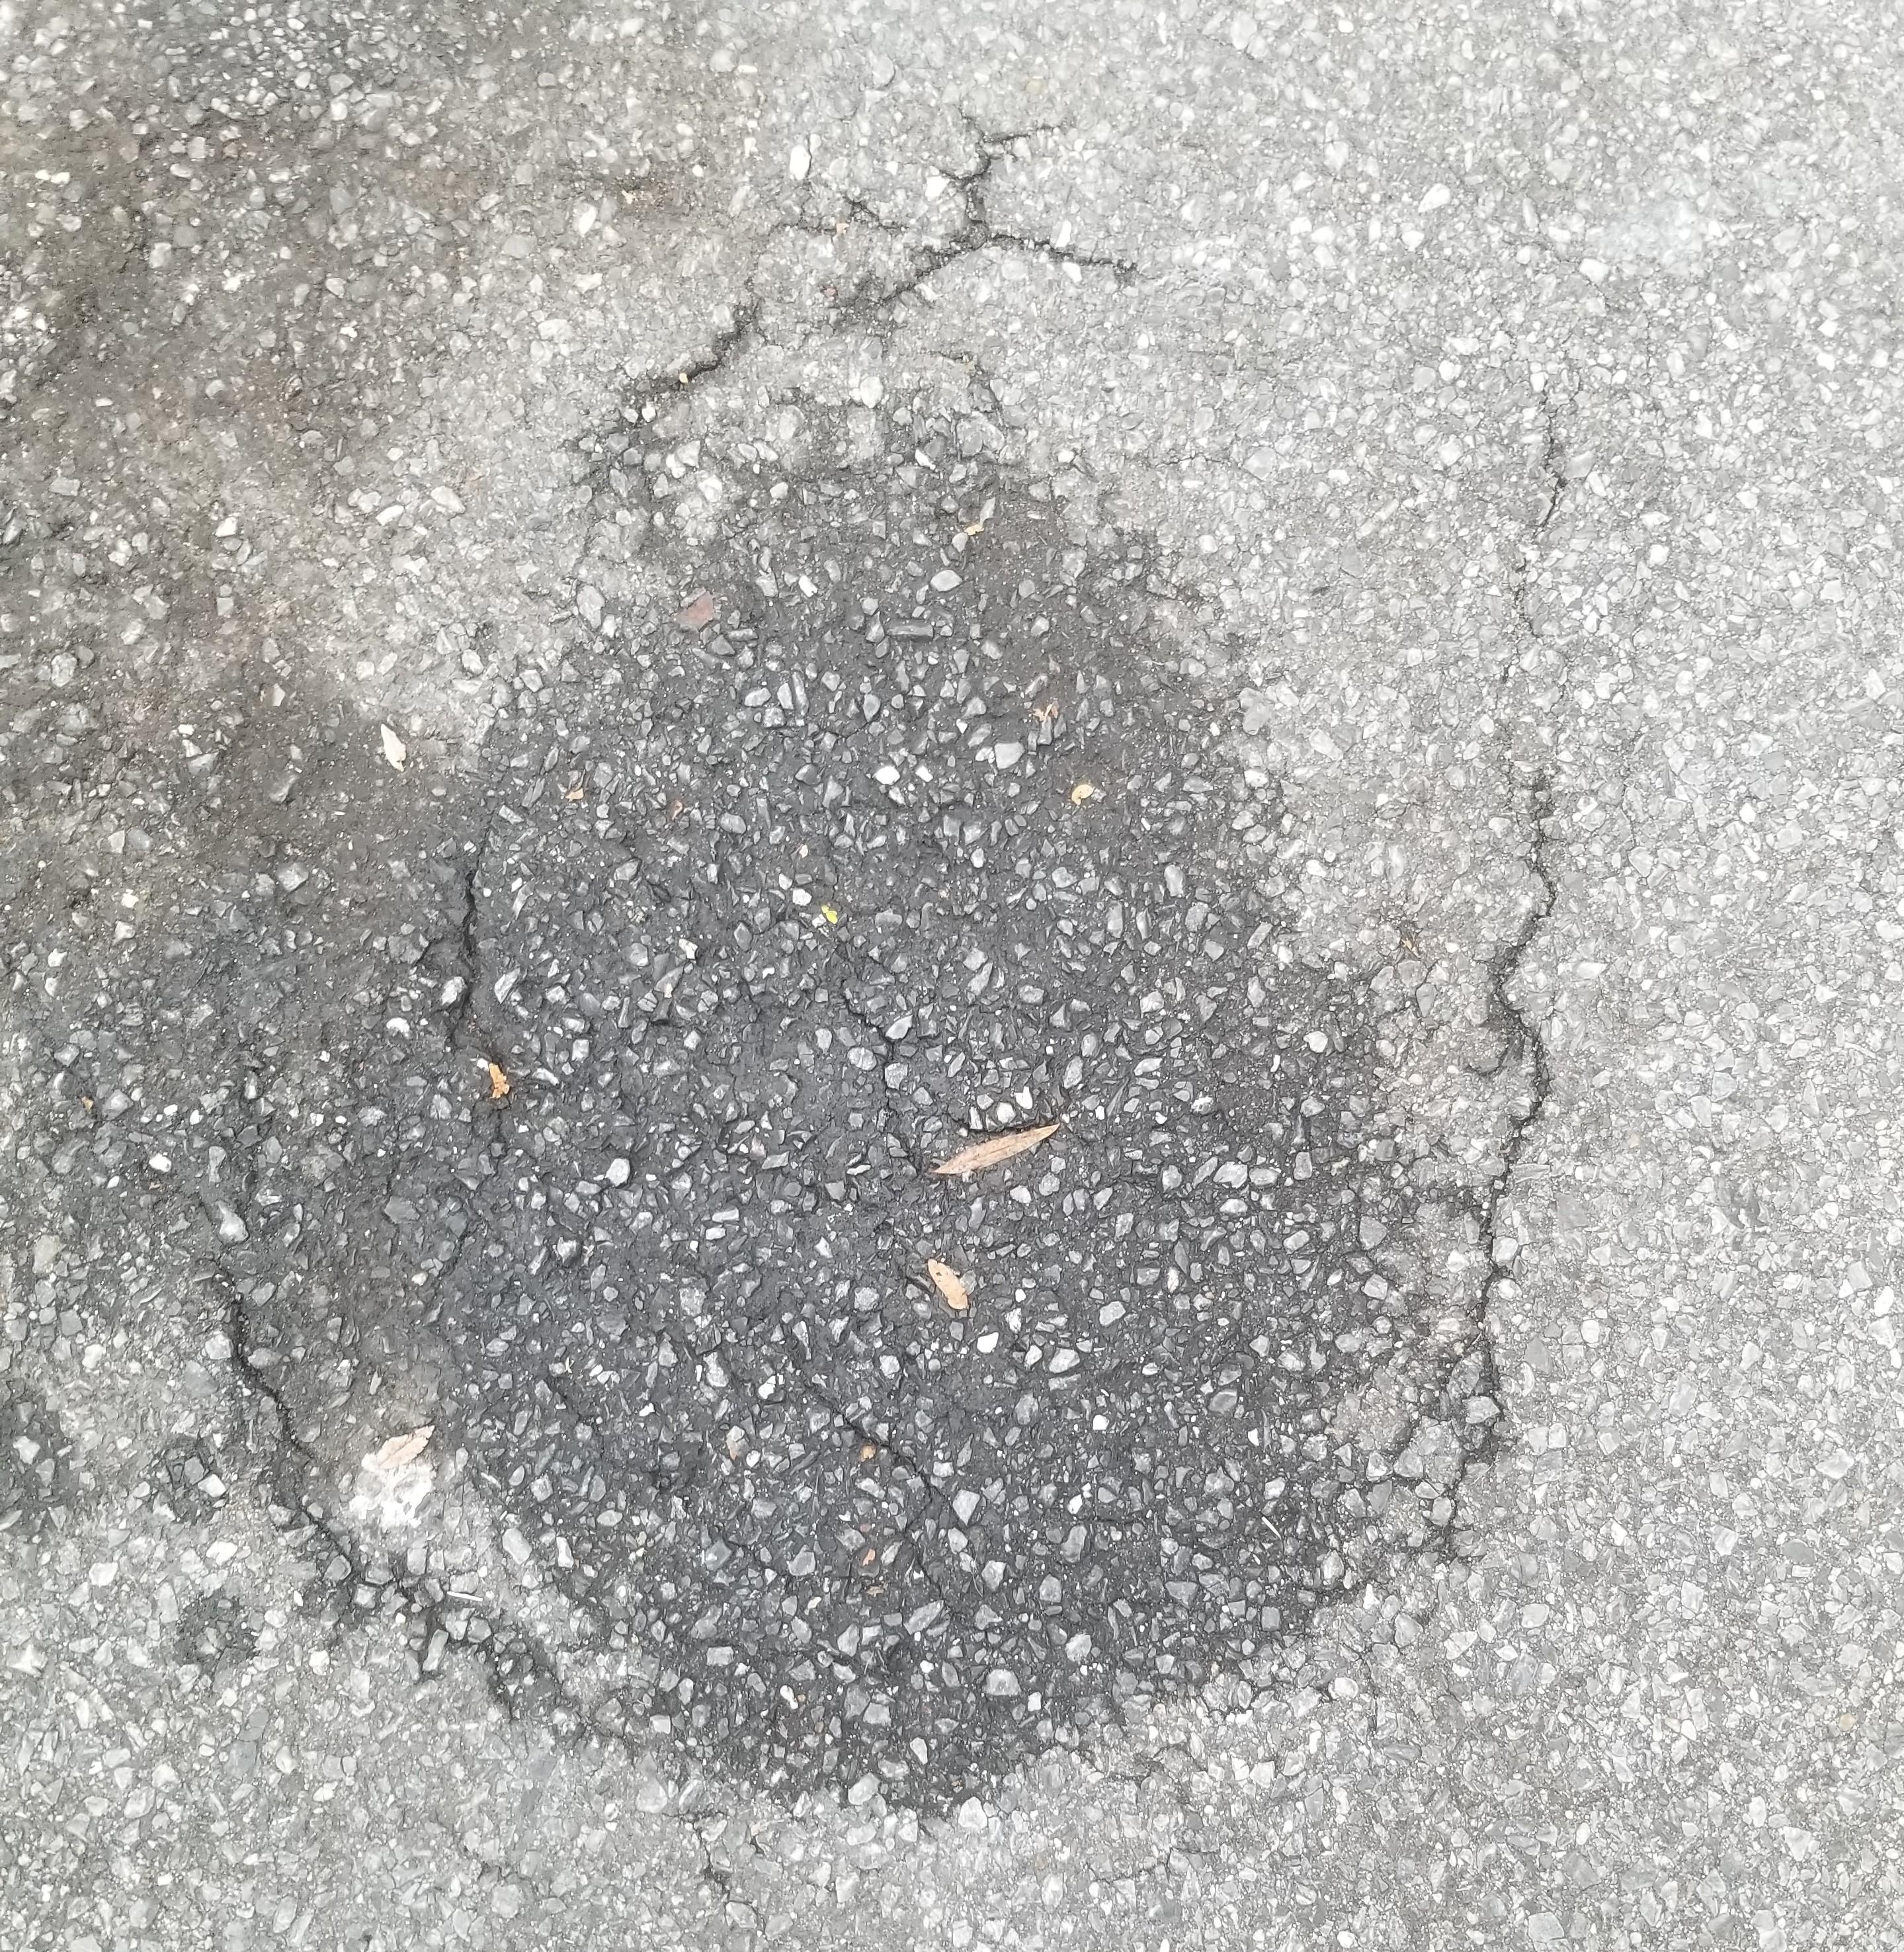crack: (558, 106, 1158, 481), (1376, 748, 1581, 1502), (188, 1075, 378, 1601), (377, 797, 537, 1130)
